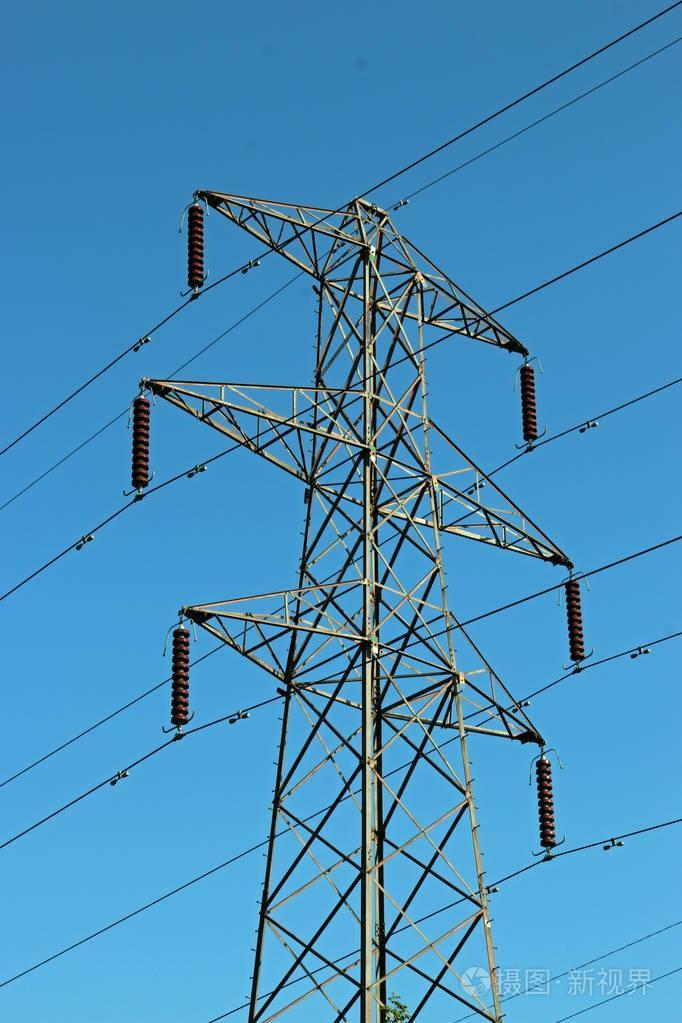power_tower: (137, 177, 573, 1013)
